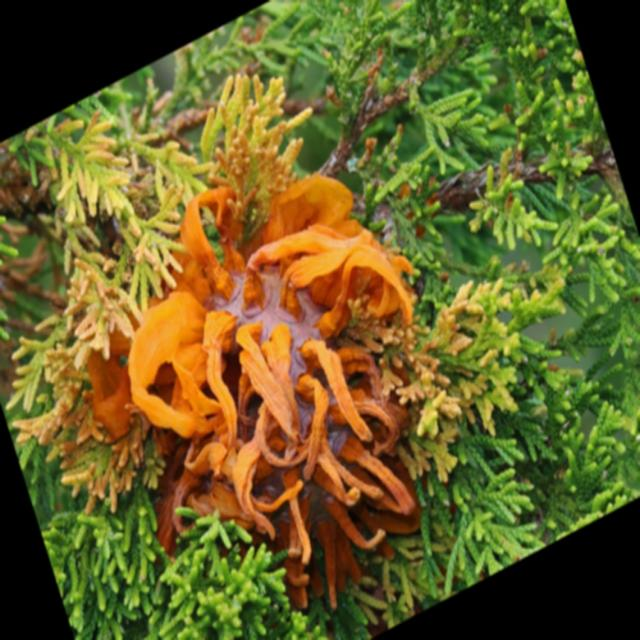Gymnosporangium_Rusts: (104, 128, 420, 571)
